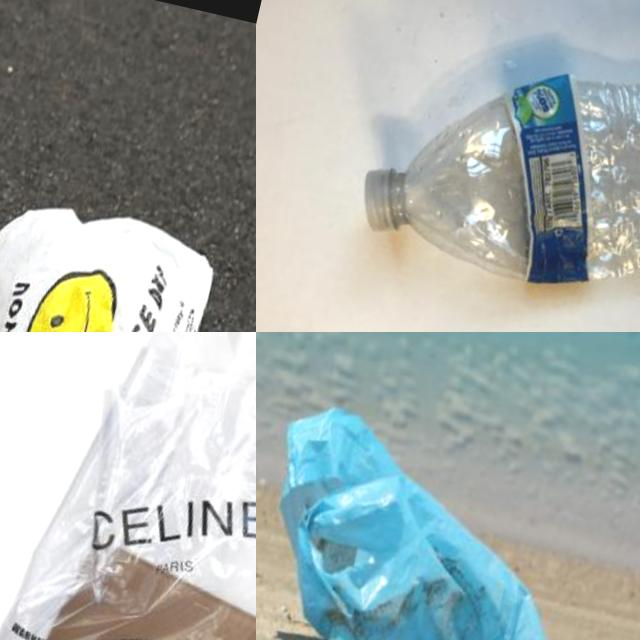garrafa plástica: (389, 1, 640, 332)
sacola plástica: (256, 396, 622, 640), (0, 332, 256, 640), (0, 167, 256, 332)
tampa plástica: (352, 160, 411, 238)
